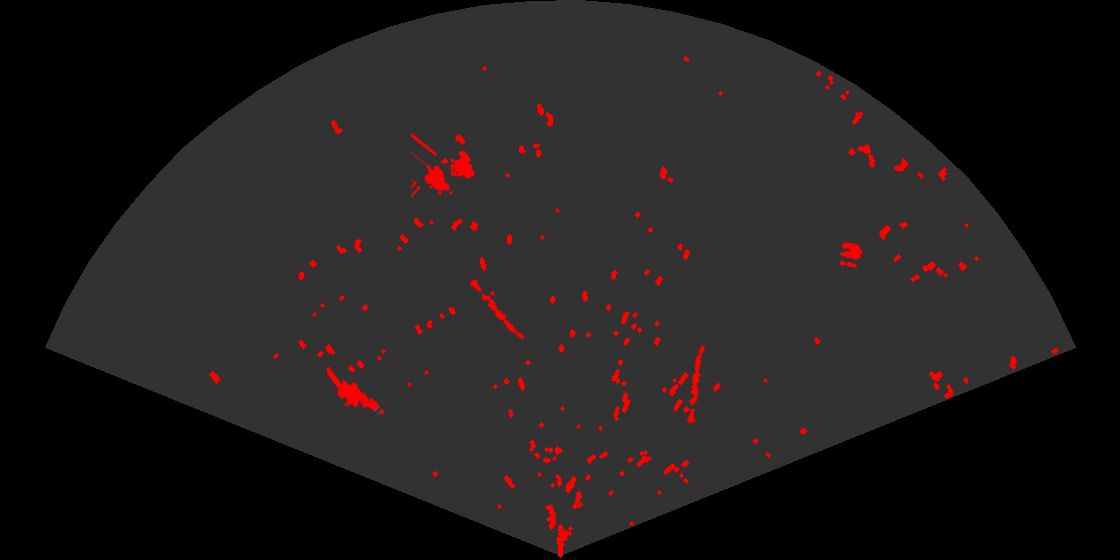ball: (838, 241, 864, 269)
cage: (411, 133, 476, 200)
chain: (464, 274, 526, 340), (685, 343, 706, 424)
frogman: (327, 367, 386, 417)
